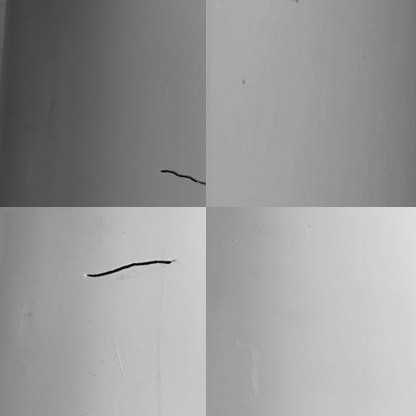fengxi: (83, 255, 175, 281), (158, 168, 206, 188)
